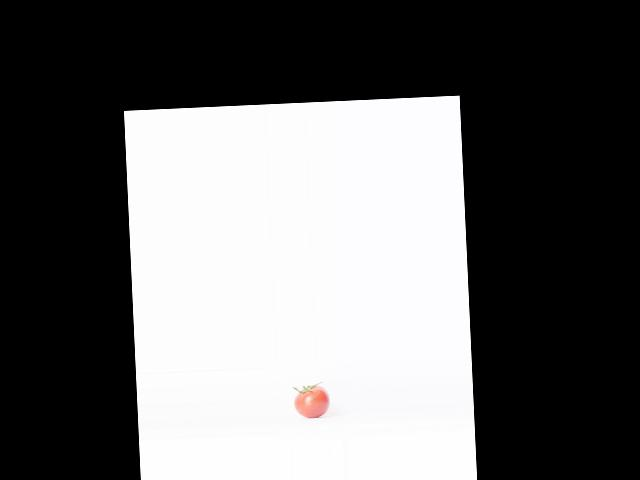tomato: (293, 385, 331, 418)
